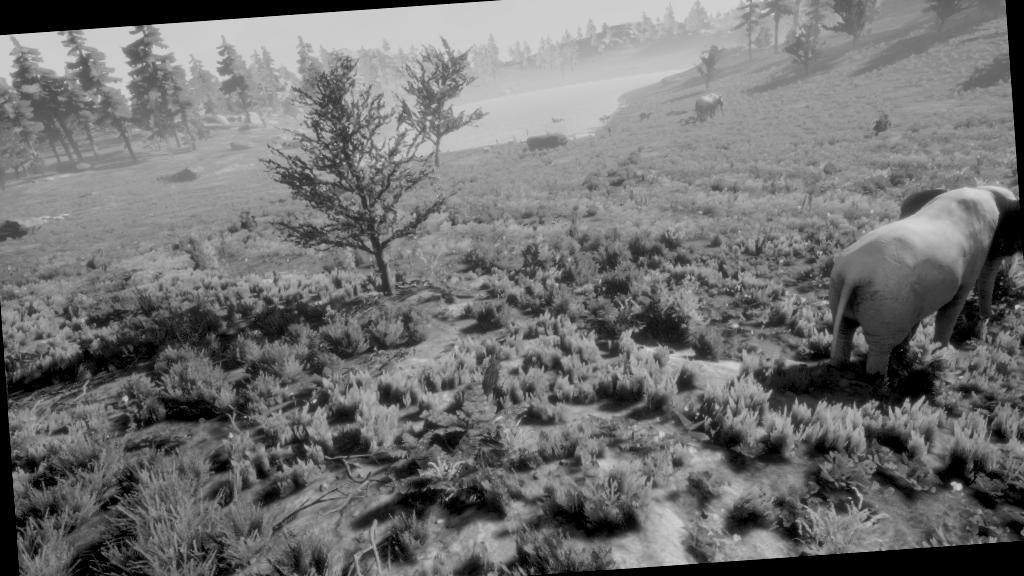elephant: (807, 149, 1023, 412), (688, 88, 730, 130)
